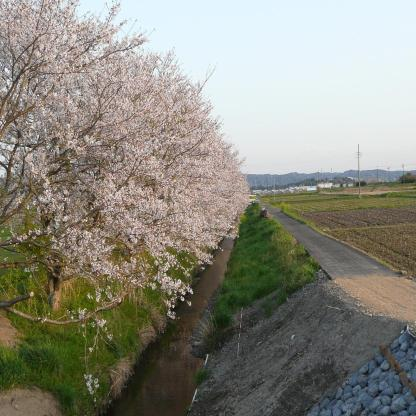Someiyoshino: (5, 3, 250, 302)
